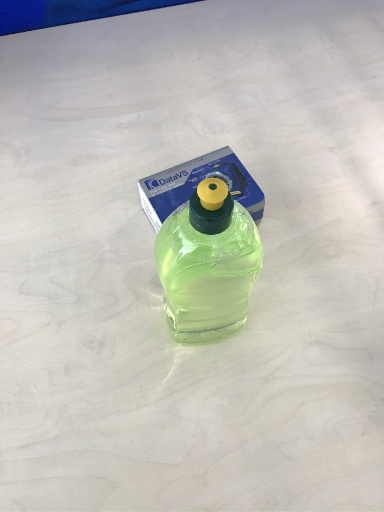Box: (138, 145, 266, 246)
Sapone: (154, 184, 265, 346)
